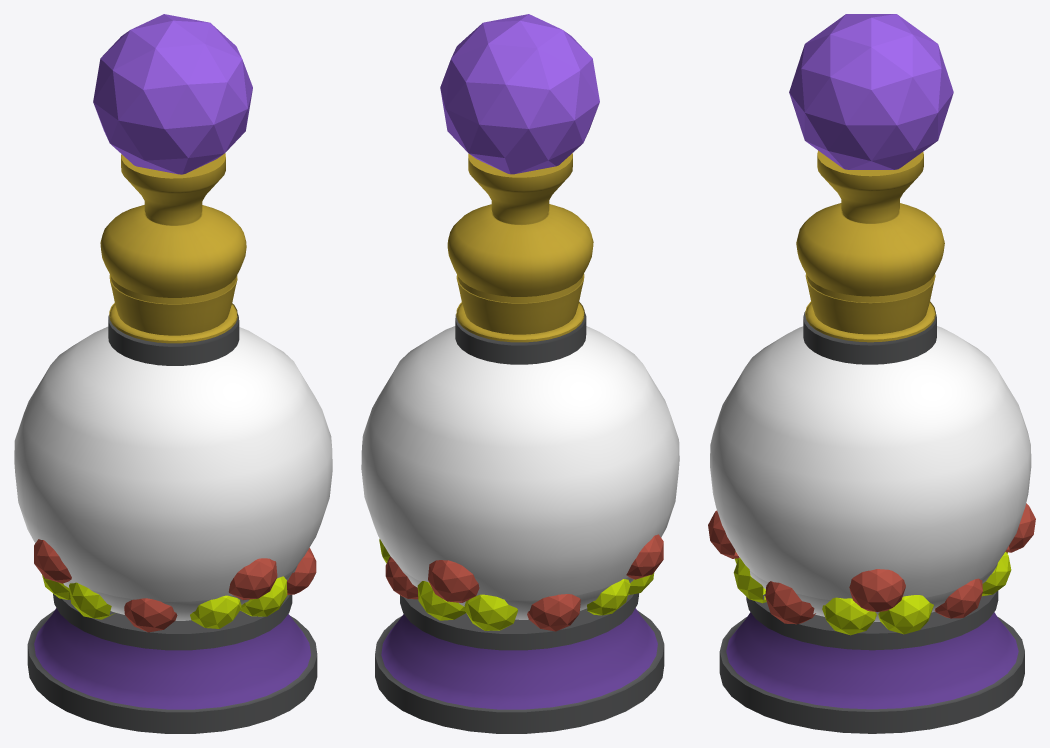
File: FrascoPerfume.fbx
3 views of the same model, side by side, from view 1: azimuth 30°, elevation 25°; view 2: azimuth 150°, elevation 25°; view 3: azimuth 270°, elevation 25° (orthographic).
Parts seen in each view (by area): view 1: Cylinder.002; view 2: Cylinder.002; view 3: Cylinder.002.
Part boxes in pixels (bbox=[...]): Cylinder.002: bbox=[14, 14, 332, 733]; Cylinder.002: bbox=[361, 14, 679, 733]; Cylinder.002: bbox=[708, 14, 1035, 733].
Size of the model in its own units: 183 by 402 by 182.
Materials: 3 (3 with a texture image).
